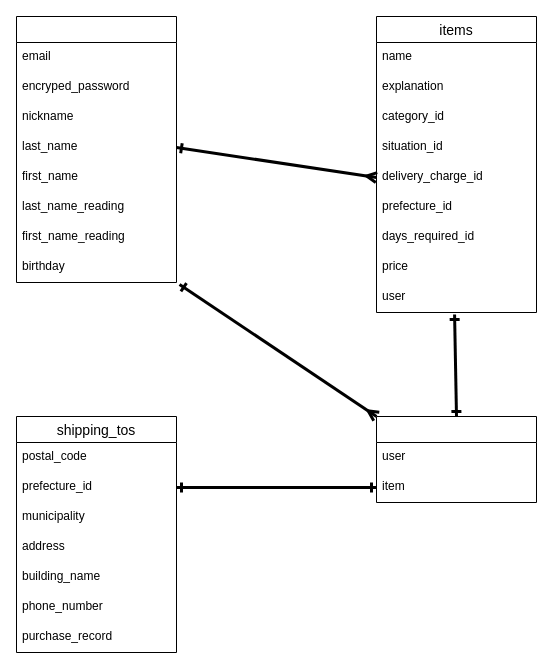
Image size: 553x669. Some labels were removed from this diagram. The shapes that lost their labels are listed below. From the top down, each one's box as (x1, y1, x2, y2) in pixels, then its label:
(16, 16, 176, 282): users
(376, 416, 536, 502): purchase_records
